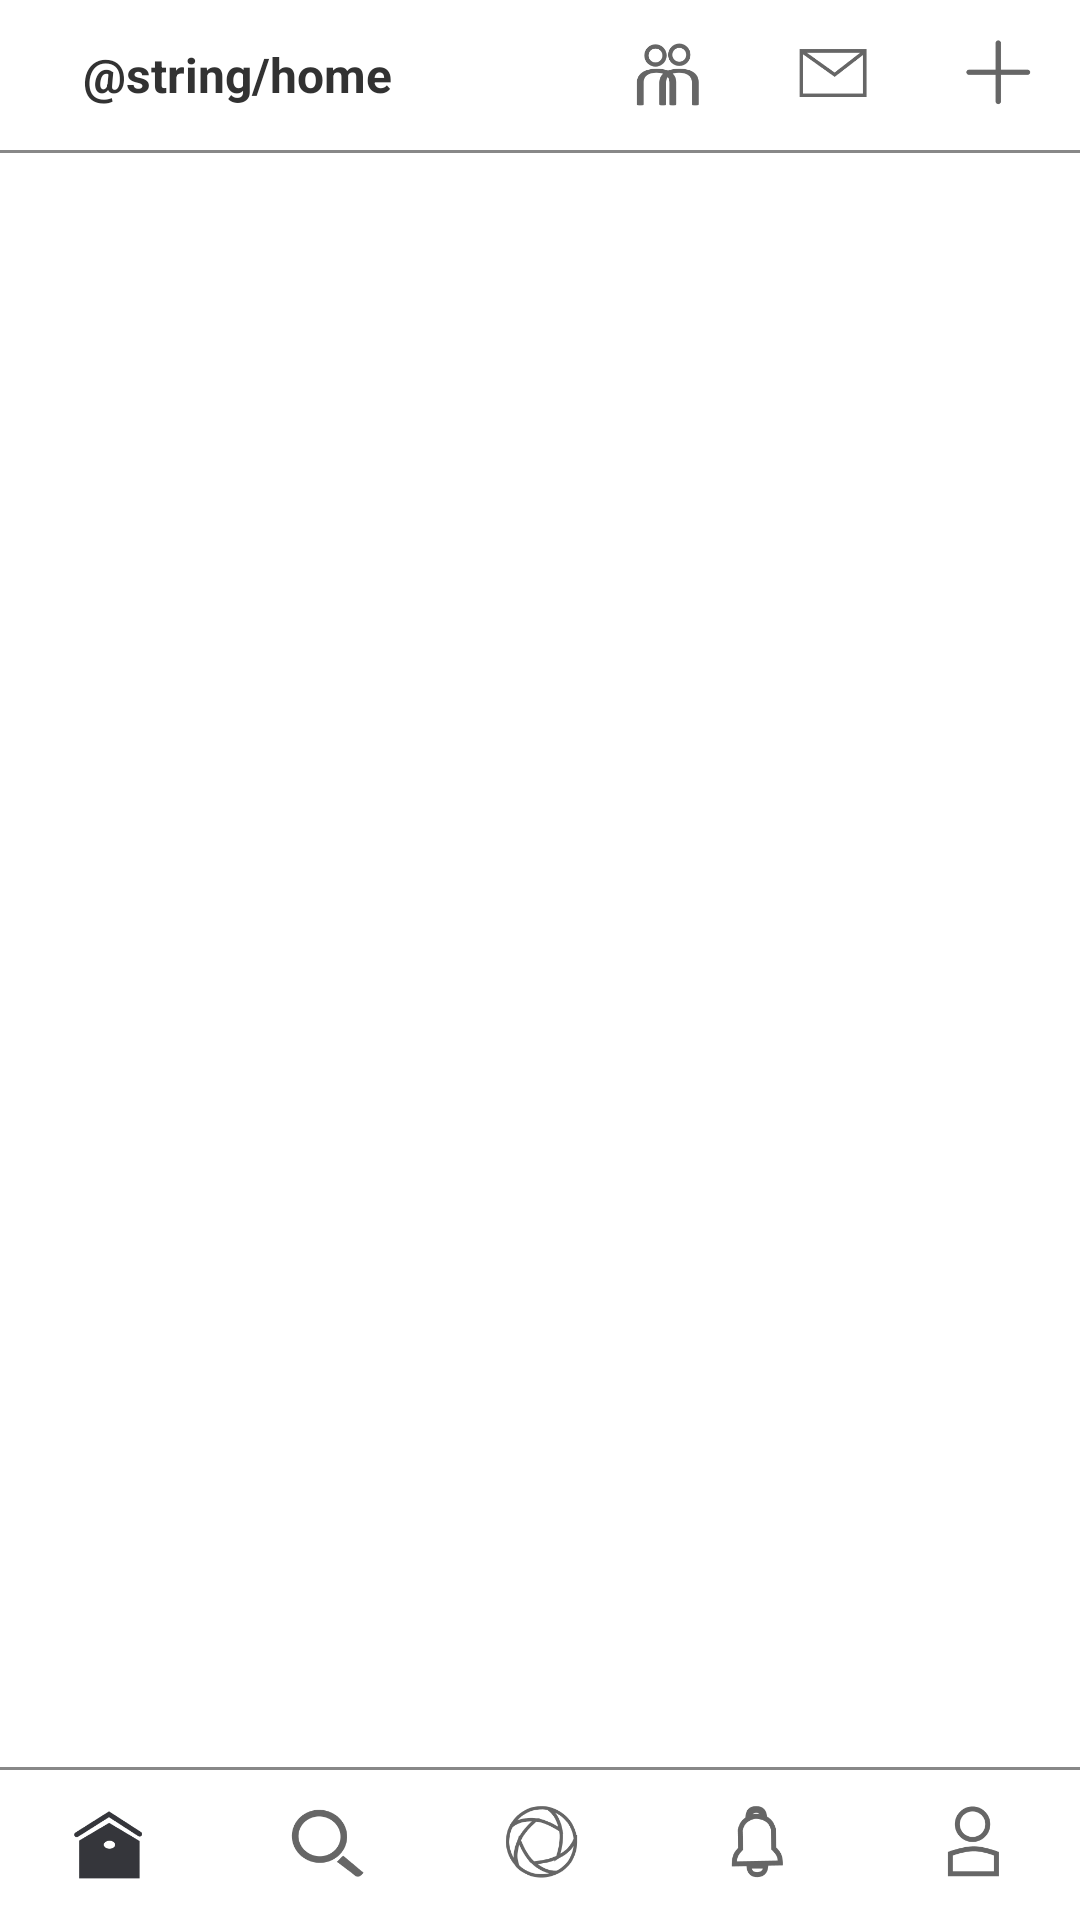

Icon click points for this 1080x1920 phone screenshot, format [x,y]:
feeds bc: [541,1842]
friendsport bc: [668,74]
home ac: [108,1845]
message bc: [833,73]
notification bc: [757,1841]
profile bc: [973,1841]
search bc: [328,1843]
upload bc: [998,72]
